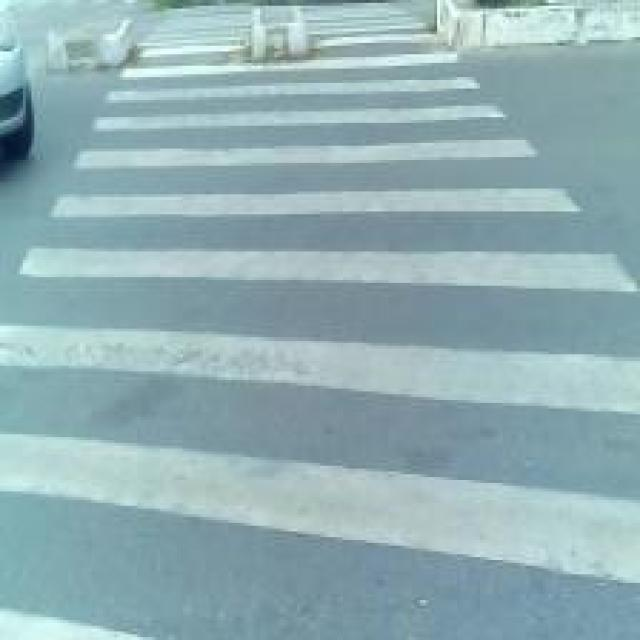walk-crossing: (100, 84, 471, 639)
